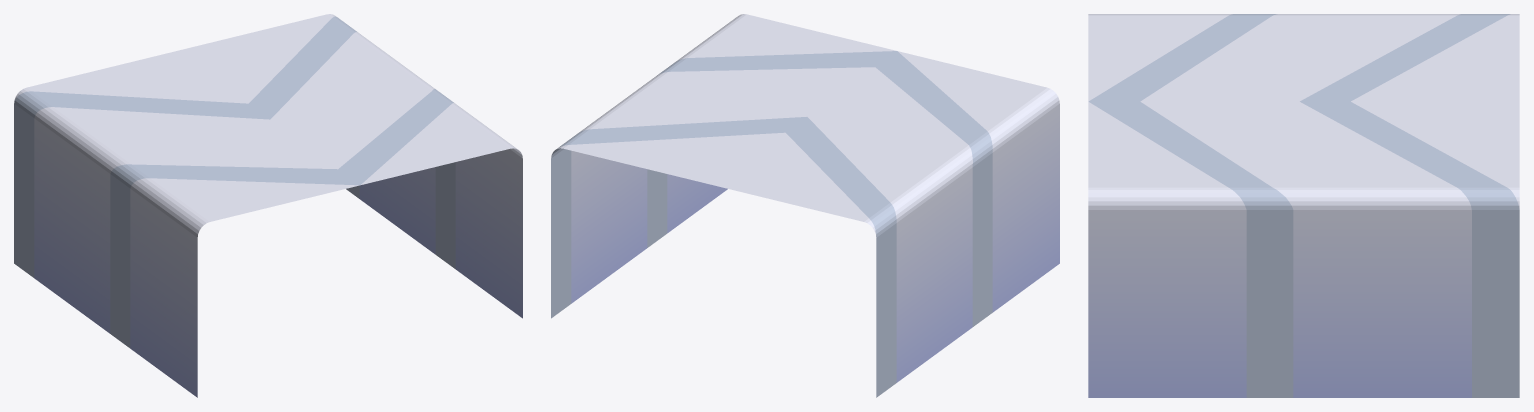
Rendered from cashierrun_platform (2).fbx.
The picture shows the model from 3 angles, left to right: view 1: azimuth 30°, elevation 25°; view 2: azimuth 150°, elevation 25°; view 3: azimuth 270°, elevation 25°; orthographic projection. The views are drawn at different scales.
Visible parts, largest first — view 1: cashierrun_platform.001; view 2: cashierrun_platform.001; view 3: cashierrun_platform.001.
Part boxes in pixels (box(x1,y1,x2,y2)): cashierrun_platform.001: box(14, 14, 522, 397); cashierrun_platform.001: box(551, 14, 1059, 397); cashierrun_platform.001: box(1088, 14, 1519, 397).
Size of the model in its own units: 11.9 by 6.05 by 11.64.
